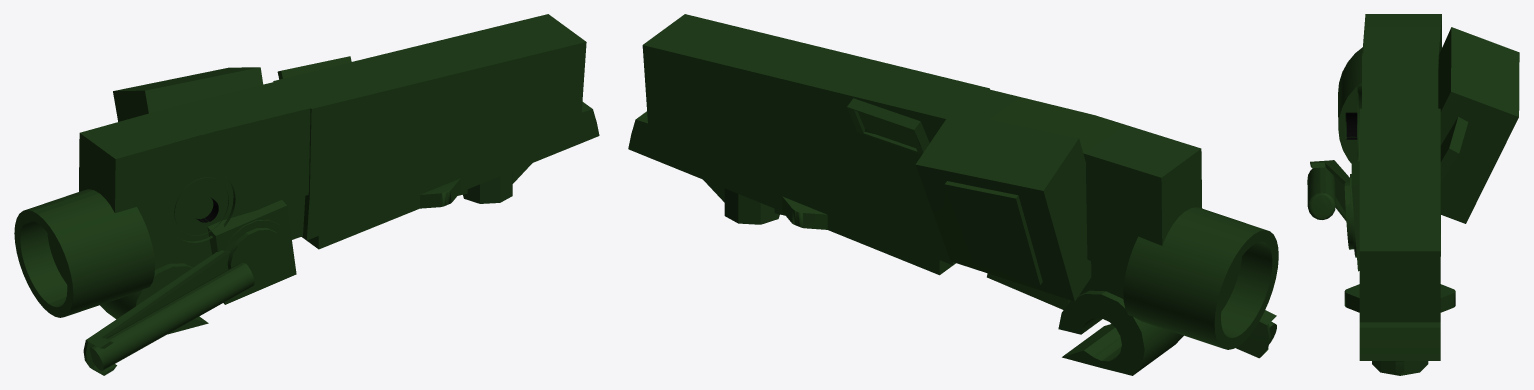
The model's file is ПТ-БортРазьем_П.fbx.
3 views of the same model, side by side, from view 1: azimuth 30°, elevation 25°; view 2: azimuth 150°, elevation 25°; view 3: azimuth 270°, elevation 25° (orthographic). The views are drawn at different scales.
Visible parts, largest first — view 1: борт разьем.001; view 2: борт разьем.001; view 3: борт разьем.001.
Part boxes in pixels (<box>): борт разьем.001: <box>14,14,599,375</box>; борт разьем.001: <box>628,14,1278,375</box>; борт разьем.001: <box>1307,14,1519,375</box>.
Size of the model in its own units: 244 by 90.88 by 77.72.
1 material, 1 textured.
